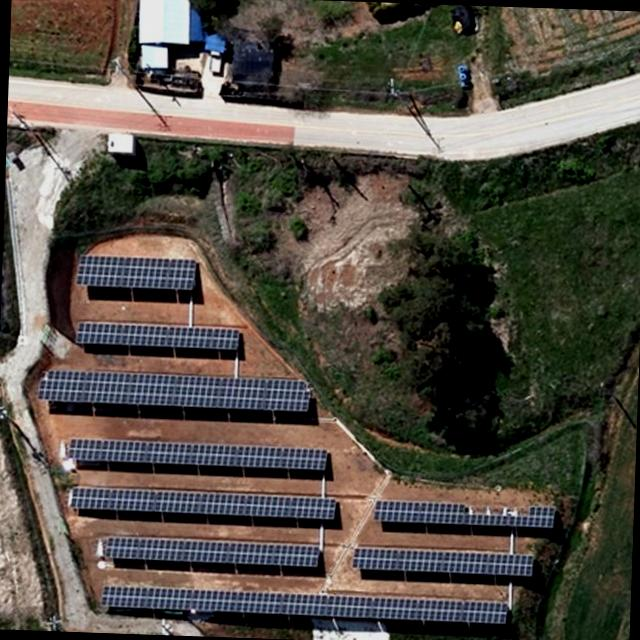solar: (98, 584, 510, 630), (35, 365, 314, 413), (67, 486, 339, 522), (64, 438, 330, 474), (100, 534, 322, 572), (371, 492, 559, 532), (354, 546, 536, 582), (74, 320, 245, 354), (73, 252, 199, 292)
